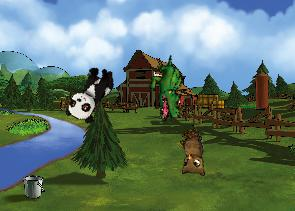crocodile: (140, 54, 195, 123)
owl: (170, 128, 210, 181)
panda: (62, 60, 119, 127)
